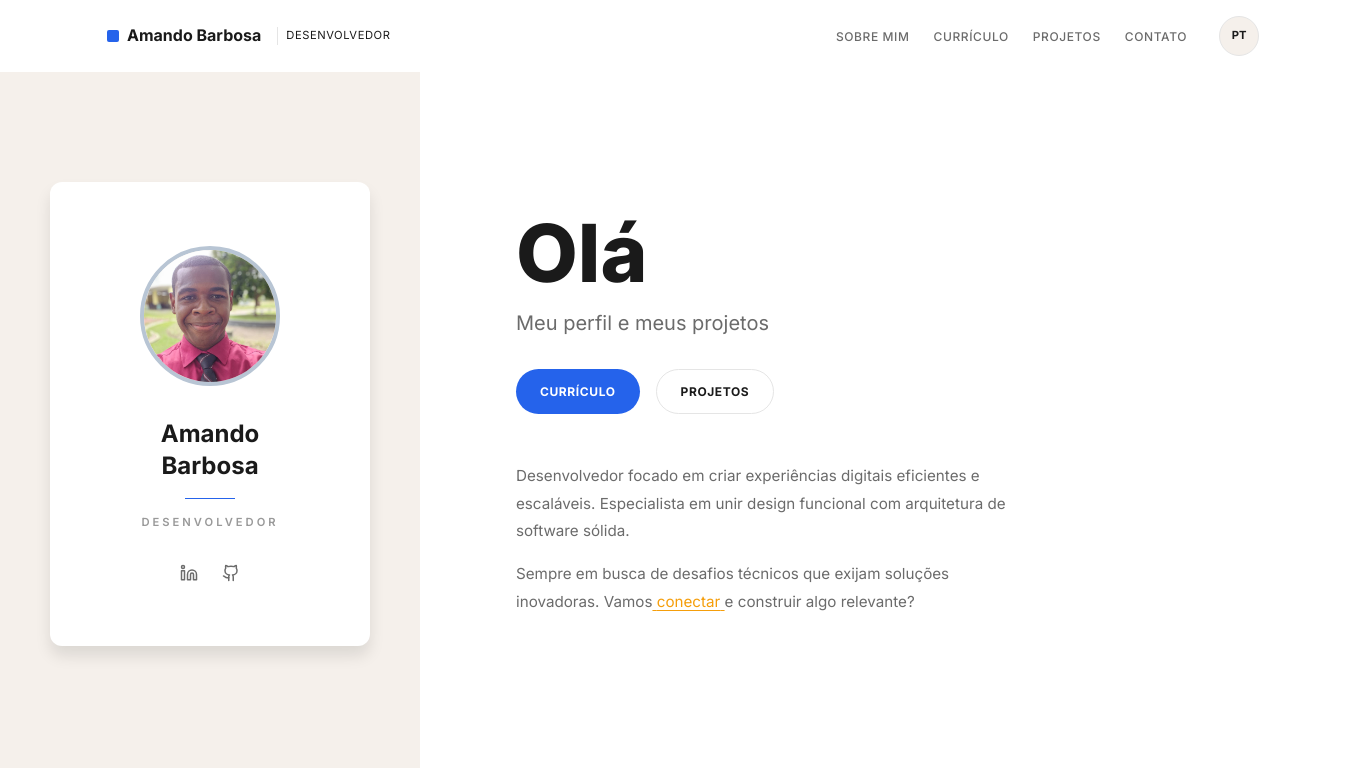
Scenario: Language Switching Integration › updates localized content across multiple components when language is toggled
Expected: the text "Desenvolvedor" below "Meu perfil e meus projetos" is shown, [141, 515, 278, 529]
Click the button "PT".
click(1239, 36)  # box [1219, 16, 1259, 56]
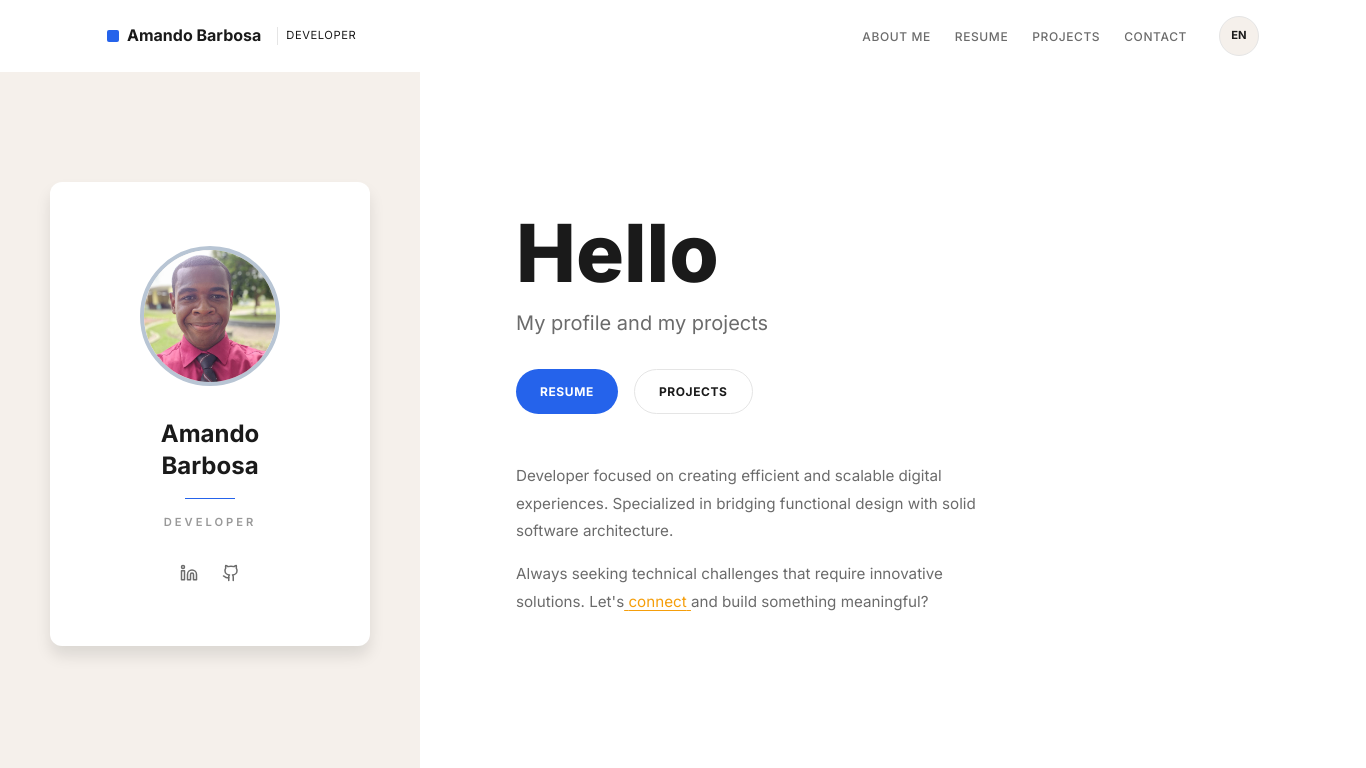
Expected: the text "Developer" below "My profile and my projects" is shown, [164, 515, 256, 529]
Expected: the button "EN" is shown, [1219, 16, 1259, 56]
Expected: the link "Desenvolvedor" is gone
